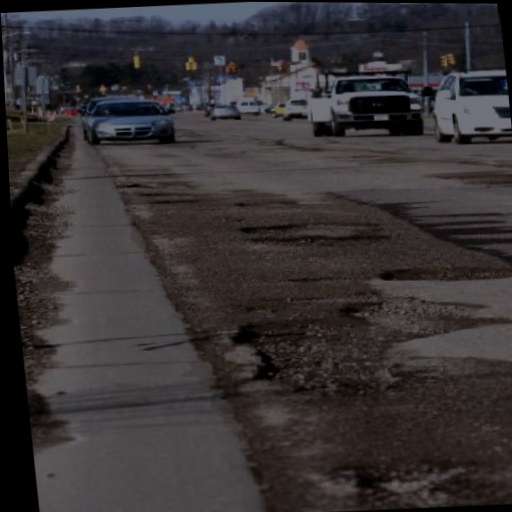pothole: (224, 311, 401, 406), (336, 454, 480, 503), (338, 294, 466, 341), (241, 228, 394, 258), (369, 259, 512, 288), (237, 216, 377, 232), (229, 197, 300, 211)
